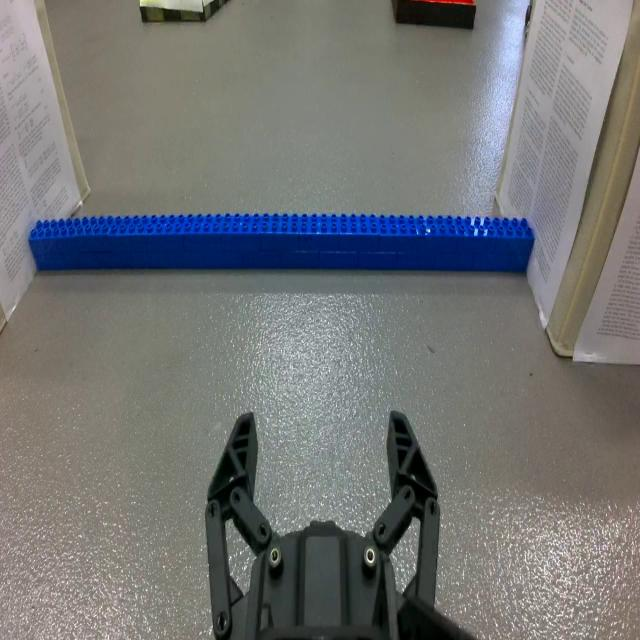river: (26, 215, 536, 276)
